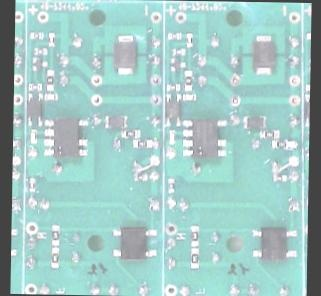chip-capacitor: (29, 127, 37, 143), (44, 91, 58, 99), (182, 92, 196, 100), (168, 128, 175, 143)
chip-resistor: (189, 247, 200, 268), (50, 222, 60, 244), (120, 127, 141, 137), (45, 67, 54, 90), (51, 245, 60, 268), (190, 223, 199, 246), (184, 69, 193, 90), (132, 138, 151, 147), (260, 128, 279, 137), (271, 139, 288, 147), (47, 31, 55, 47), (167, 176, 175, 192), (33, 46, 48, 54), (27, 82, 42, 90), (186, 31, 194, 46), (272, 173, 287, 181), (29, 30, 43, 38), (134, 171, 148, 179), (171, 47, 185, 55), (28, 177, 35, 191), (168, 31, 182, 38), (167, 83, 179, 90)
diode: (112, 33, 137, 73), (251, 34, 276, 74), (242, 114, 266, 128), (104, 114, 127, 127)
ic: (43, 116, 89, 158), (181, 116, 227, 158), (251, 224, 298, 261), (112, 225, 157, 260), (163, 91, 181, 126), (26, 92, 44, 126)
transistor: (32, 56, 47, 70), (170, 57, 186, 70)
